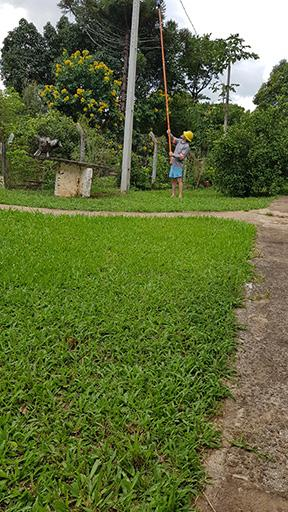Vara_Manobra: (158, 8, 171, 165)
